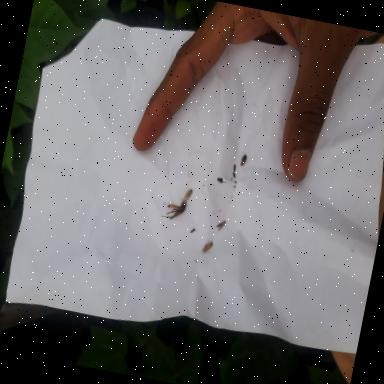pbw: (200, 240, 213, 256), (182, 188, 193, 204), (216, 220, 226, 232)
